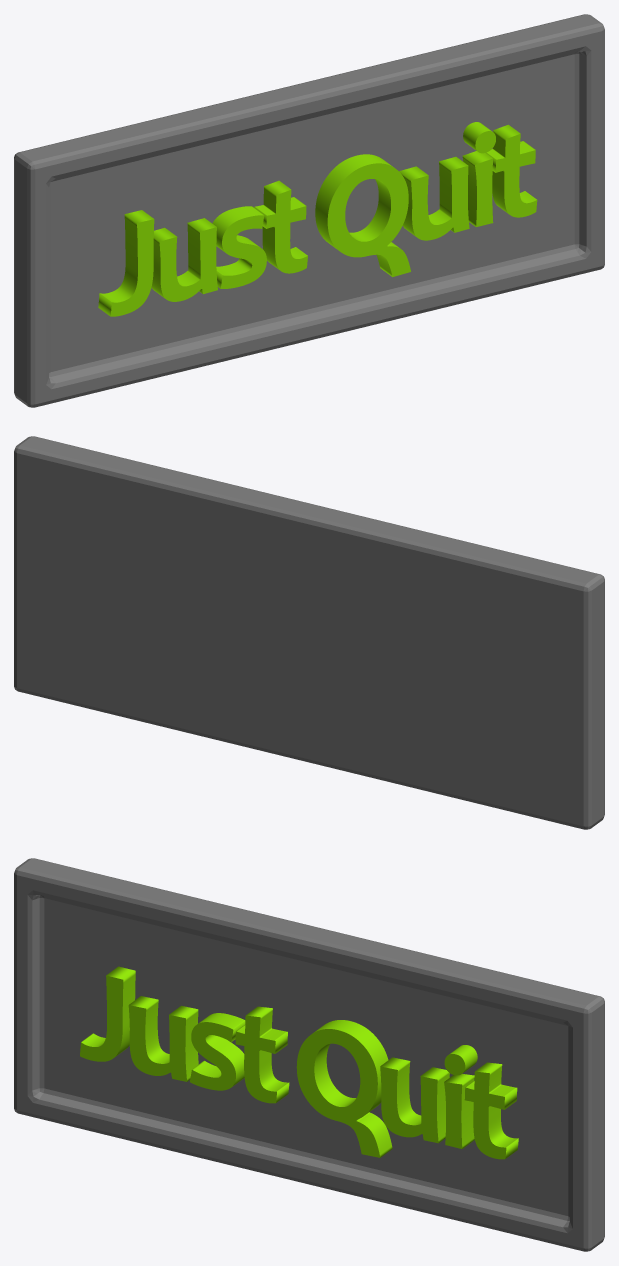
Rendered from quit_text.dae.
The picture shows the model from 3 angles, top to bottom: view 1: azimuth 30°, elevation 25°; view 2: azimuth 150°, elevation 25°; view 3: azimuth 330°, elevation 25°; orthographic projection.
Parts seen in each view (by area): view 1: backing, Text; view 2: backing; view 3: backing, Text.
Part boxes in pixels (box(x1,y1,x2,y2)): backing: box(14, 14, 604, 407); Text: box(98, 122, 537, 316); backing: box(14, 436, 604, 829); backing: box(14, 858, 604, 1251); Text: box(80, 966, 518, 1159).
Size of what is drawn, in the model's own units: 5.4 by 0.4 by 2.2.
